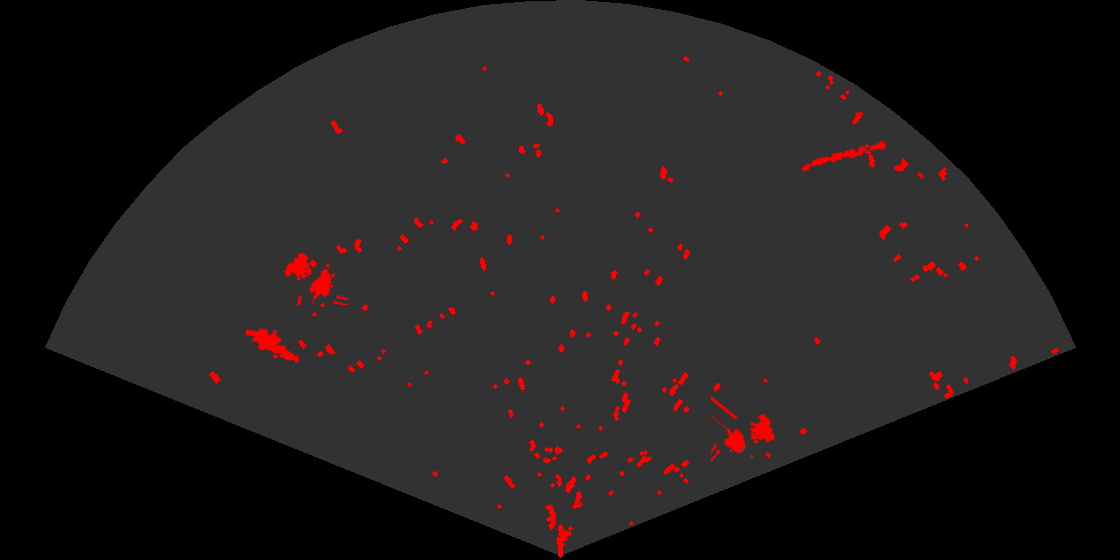cage: (711, 395, 776, 464), (282, 251, 348, 305)
chain: (799, 139, 888, 173)
frogman: (246, 326, 302, 364)
